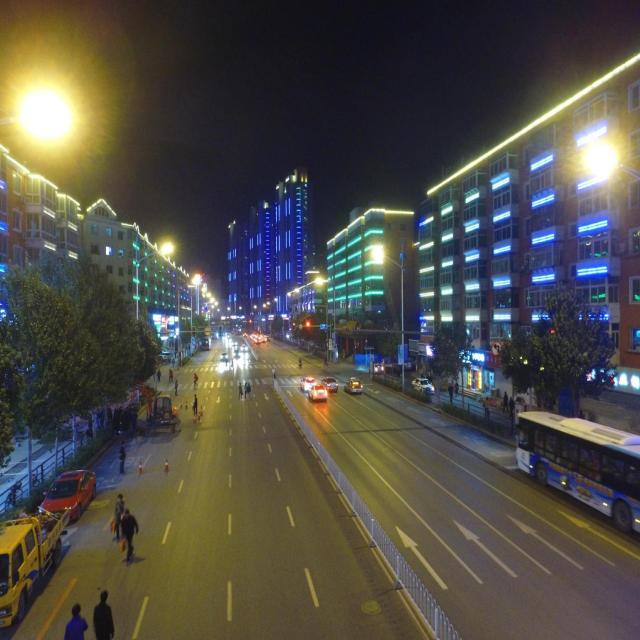car: (38, 469, 96, 522), (411, 378, 435, 394), (344, 377, 363, 394)
person: (93, 590, 114, 640), (120, 508, 138, 565), (64, 603, 88, 639), (112, 494, 125, 541), (118, 441, 126, 474), (272, 368, 276, 382)
tree: (499, 285, 618, 417), (426, 318, 471, 402)
